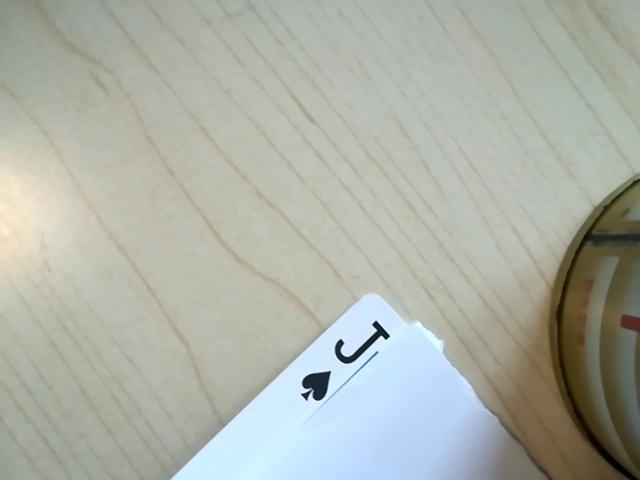ht j: (287, 317, 402, 409)
